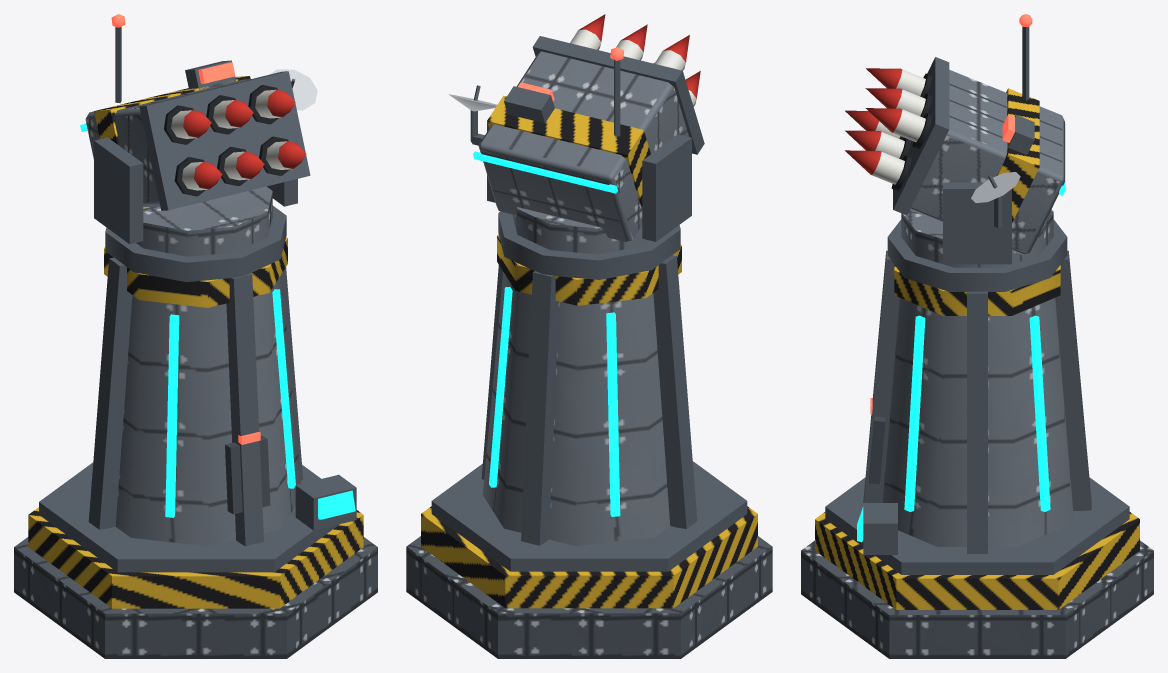
The model's file is tower_l7.glb.
3 views of the same model, side by side, from view 1: azimuth 30°, elevation 25°; view 2: azimuth 150°, elevation 25°; view 3: azimuth 270°, elevation 25° (orthographic). The views are drawn at different scales.
Visible parts, largest first — view 1: tower_l7; view 2: tower_l7; view 3: tower_l7.
Boxes of the visible parts, x1,y1,x2,y2 form: tower_l7: [14, 14, 377, 658]; tower_l7: [406, 14, 772, 658]; tower_l7: [801, 14, 1153, 658].
Bounding box in the file's own units: 0.4417 × 0.886 × 0.51.
3 materials, 1 textured.
